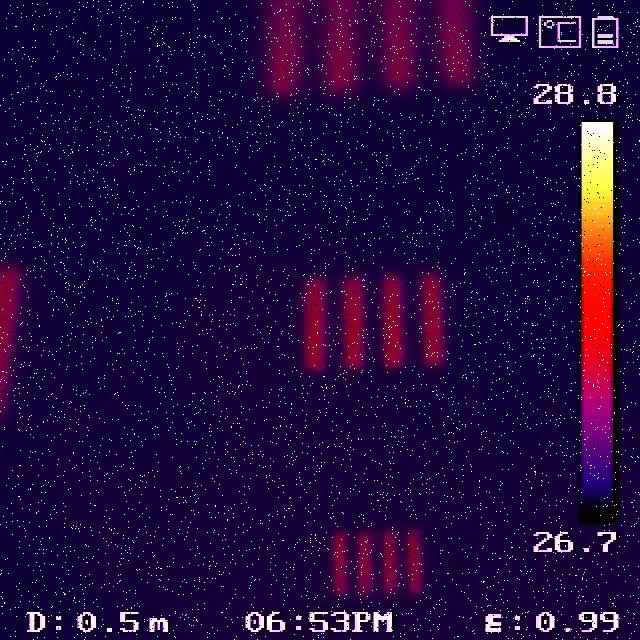Distinguishable 4-bar target: (256, 1, 479, 98), (295, 271, 448, 374), (324, 527, 429, 601)
